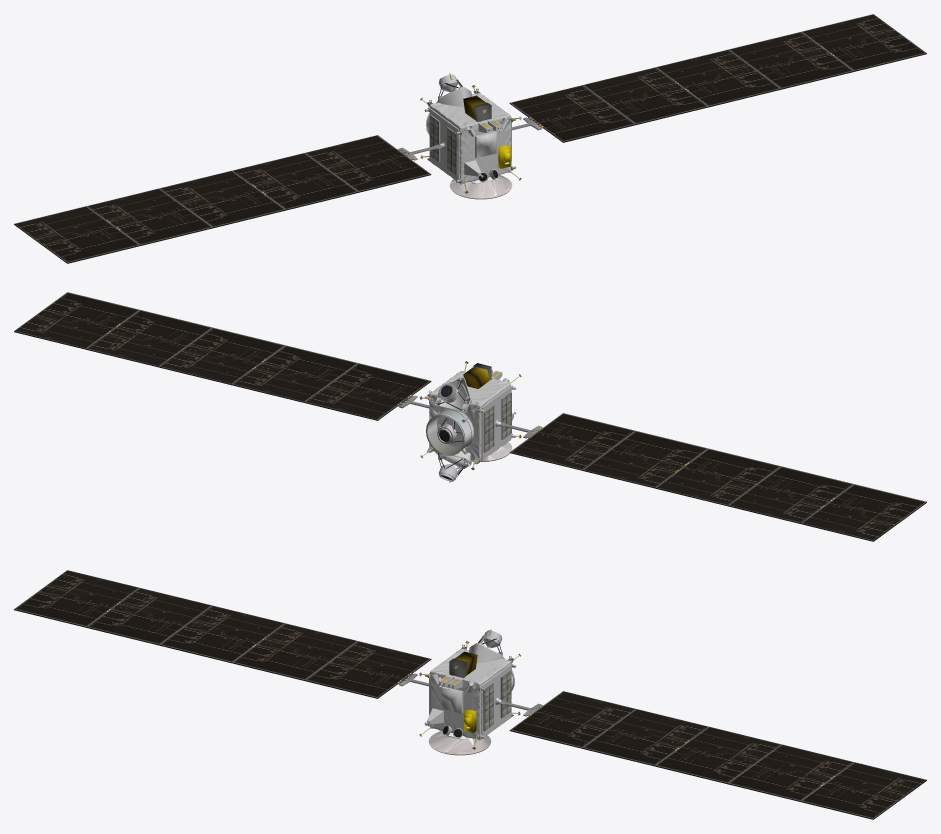
Rendered from Dawn.fbx.
3 renders of one model, top to bottom at view 1: azimuth 30°, elevation 25°; view 2: azimuth 150°, elevation 25°; view 3: azimuth 330°, elevation 25°, orthographic.
Parts seen in each view (by area): view 1: tex_01_002, black_krinkle, tex_01, foil_silver_2, foil_gold; view 2: tex_01_002, tex_01, black_krinkle; view 3: tex_01_002, black_krinkle, tex_01, foil_silver_2, foil_gold.
Part boxes in pixels (bbox=[...]): tex_01_002: bbox=[14, 14, 926, 263]; black_krinkle: bbox=[429, 87, 511, 184]; tex_01: bbox=[420, 73, 521, 193]; foil_silver_2: bbox=[449, 175, 512, 199]; foil_gold: bbox=[463, 95, 510, 168]; tex_01_002: bbox=[14, 292, 926, 541]; tex_01: bbox=[419, 361, 521, 482]; black_krinkle: bbox=[429, 366, 513, 468]; tex_01_002: bbox=[14, 570, 926, 819]; black_krinkle: bbox=[427, 643, 511, 740]; tex_01: bbox=[419, 629, 520, 749]; foil_silver_2: bbox=[428, 731, 491, 755]; foil_gold: bbox=[455, 651, 477, 732].
Bounding box in the file's own units: 19.7 × 2.22 × 2.2.
